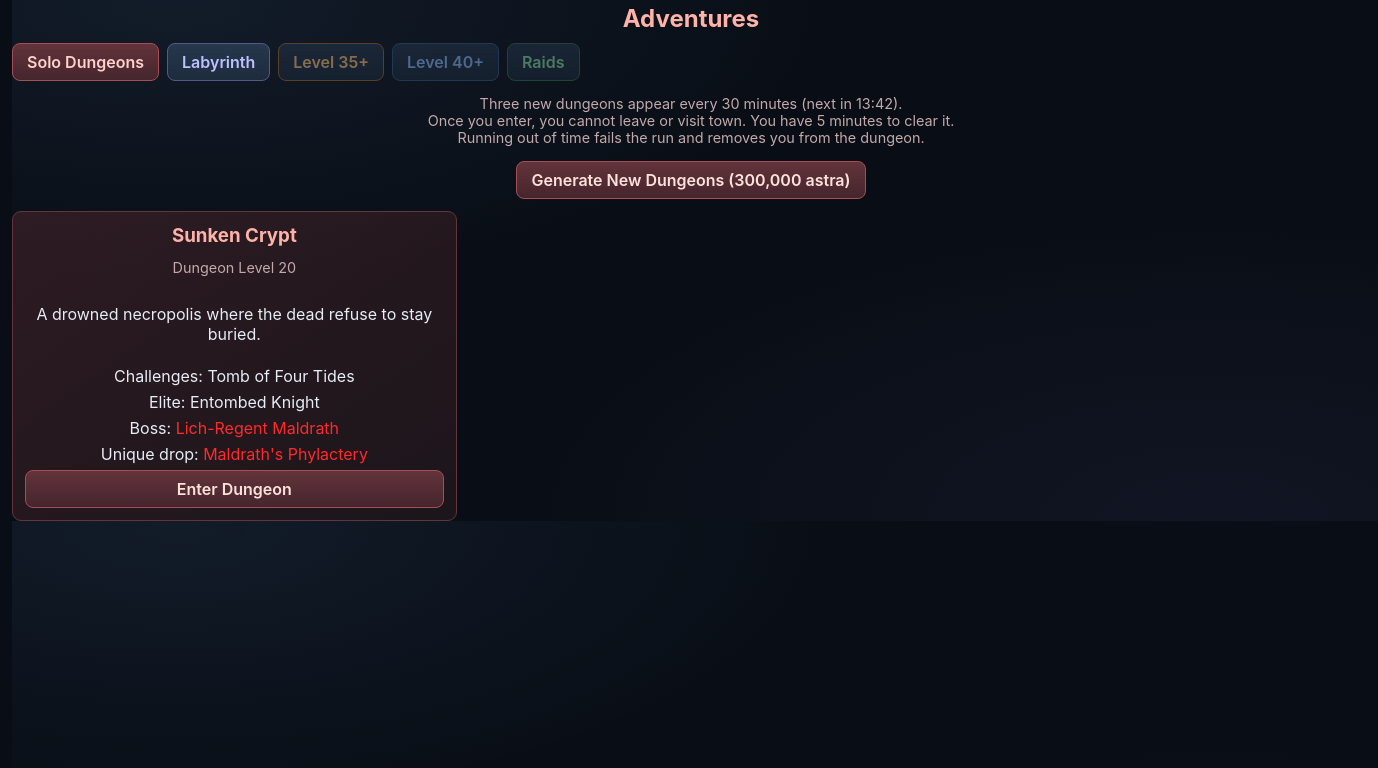
Scenario: level 22 characters can open the Labyrinth expedition
Click the button "Labyrinth" at (219, 62), box [167,43,270,81]
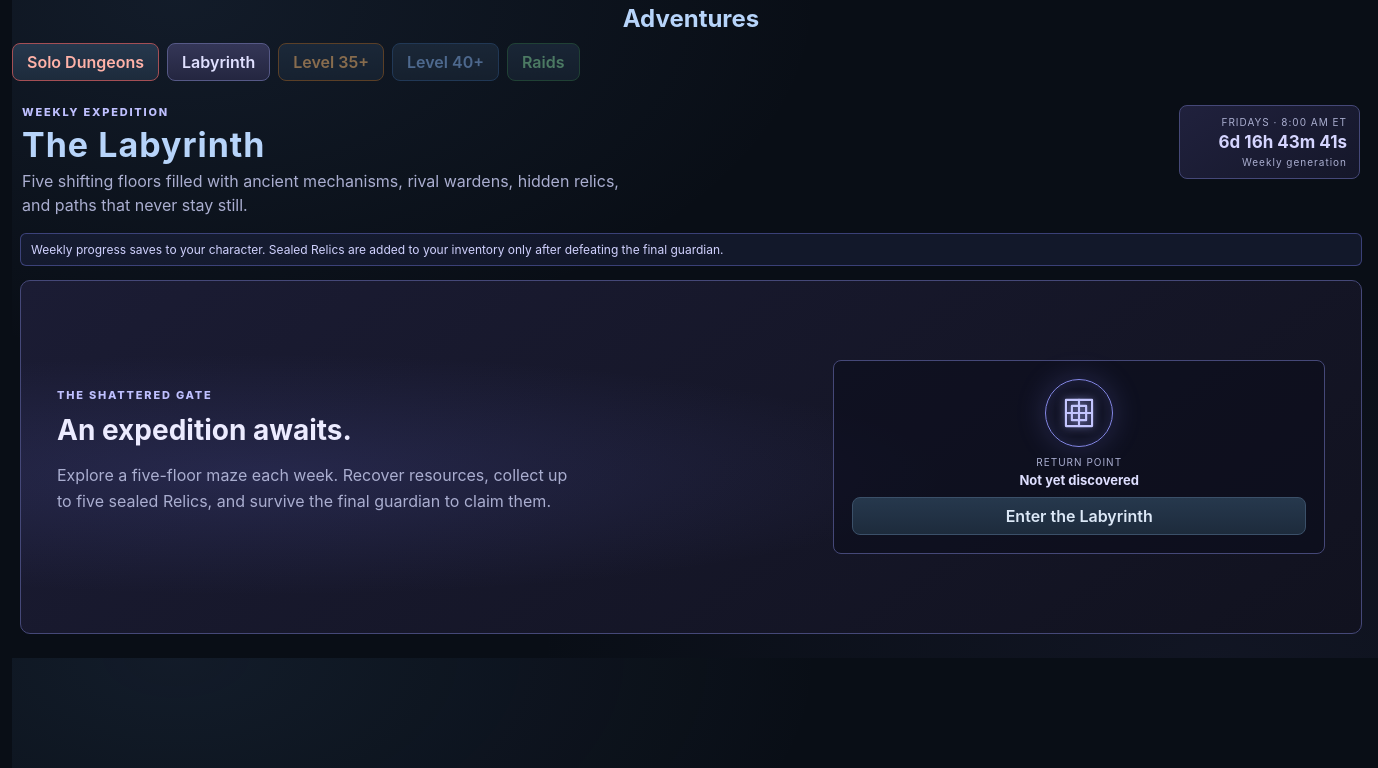
Now the heading "The Labyrinth" is shown, box [22,124,266,165]
Now the button "Enter the Labyrinth" is shown, box [852,497,1306,535]
